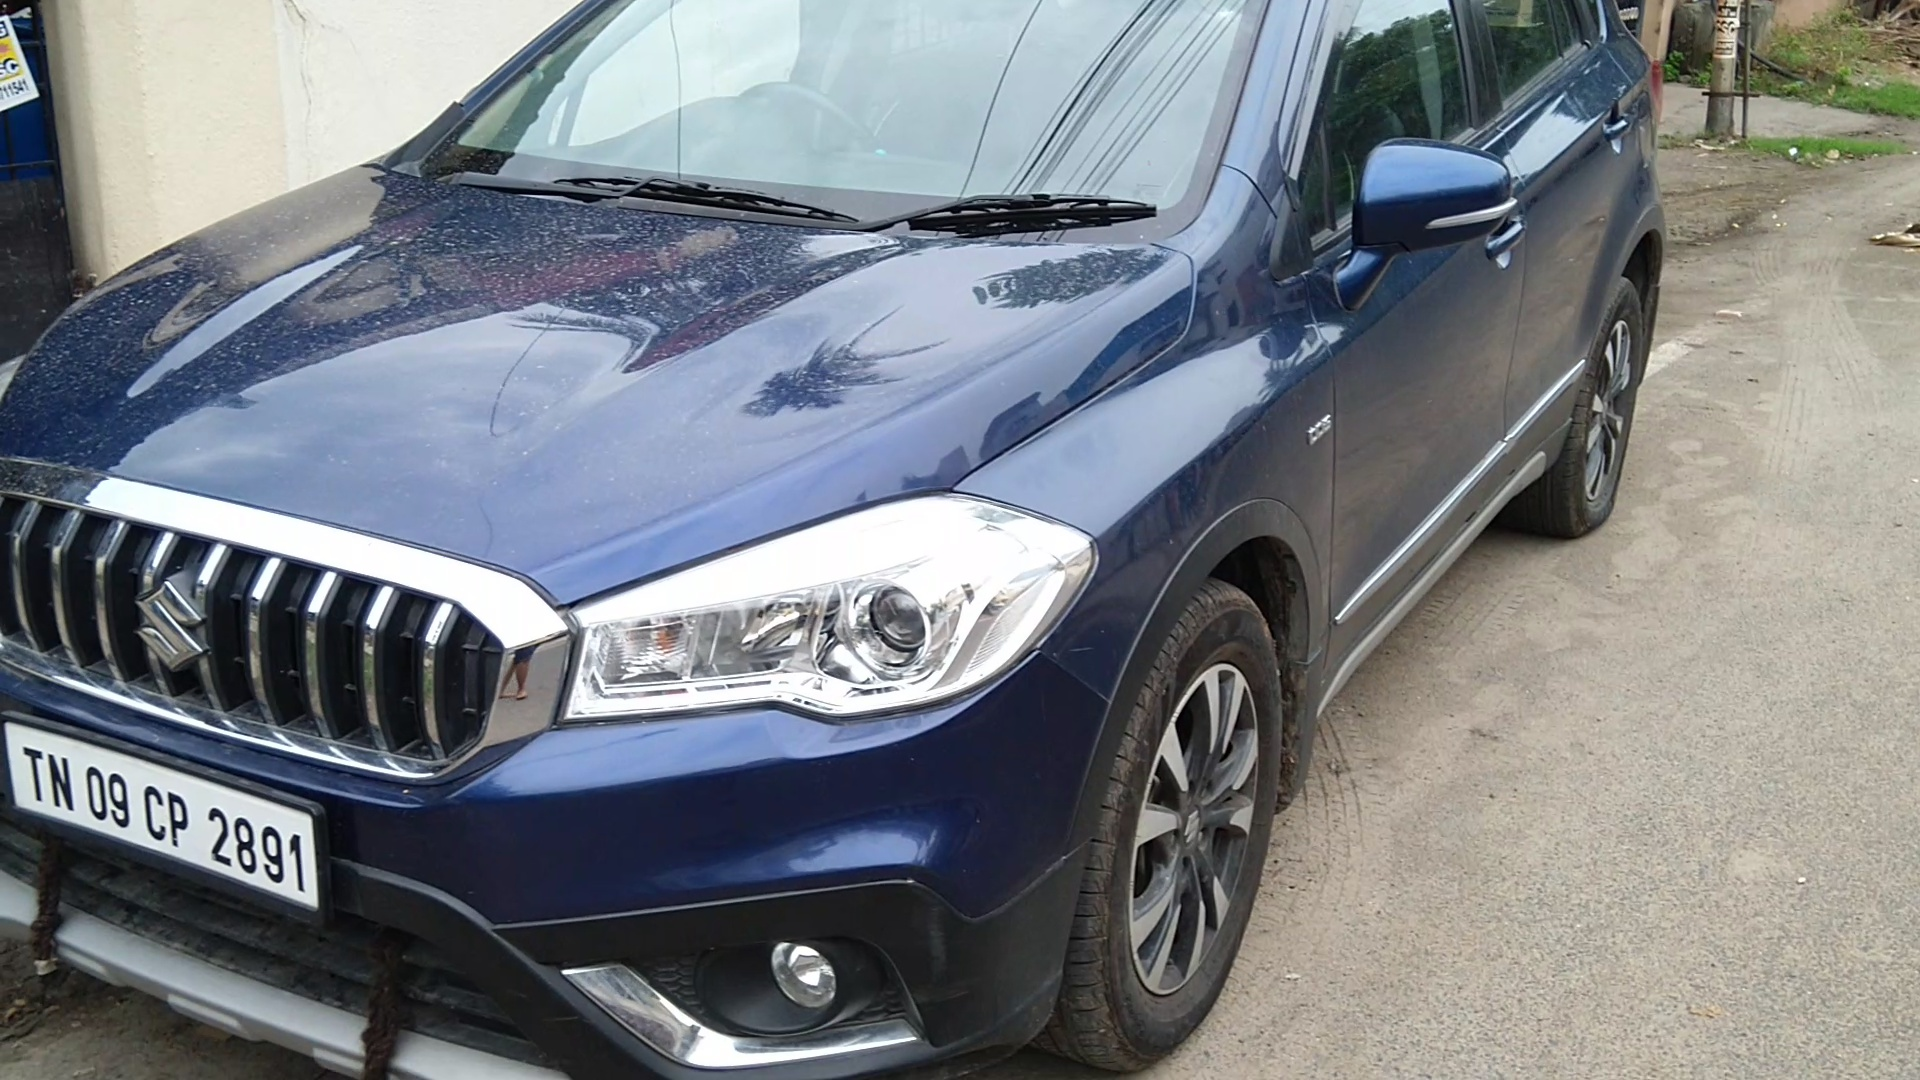alloy_wheel: (1095, 587, 1291, 1063), (1567, 305, 1654, 522)
front_grill: (5, 443, 553, 781)
headlamp: (555, 443, 1124, 790)
ovr_mirror: (1356, 128, 1523, 269)
